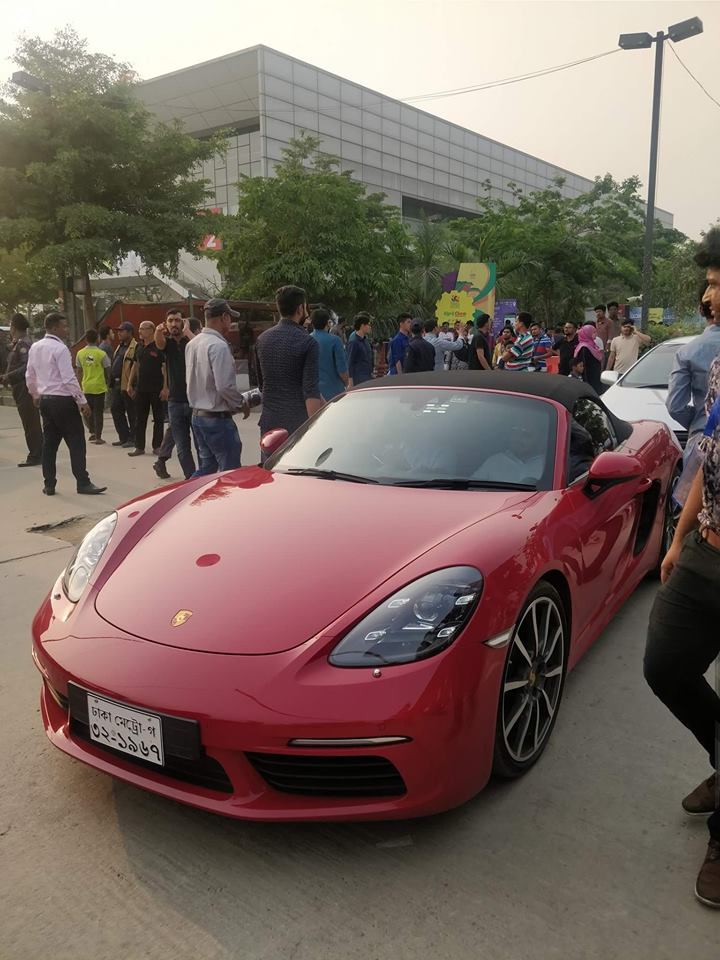registration_plate: (87, 692, 165, 768)
